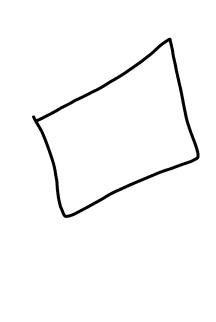Square: (29, 36, 202, 220)
